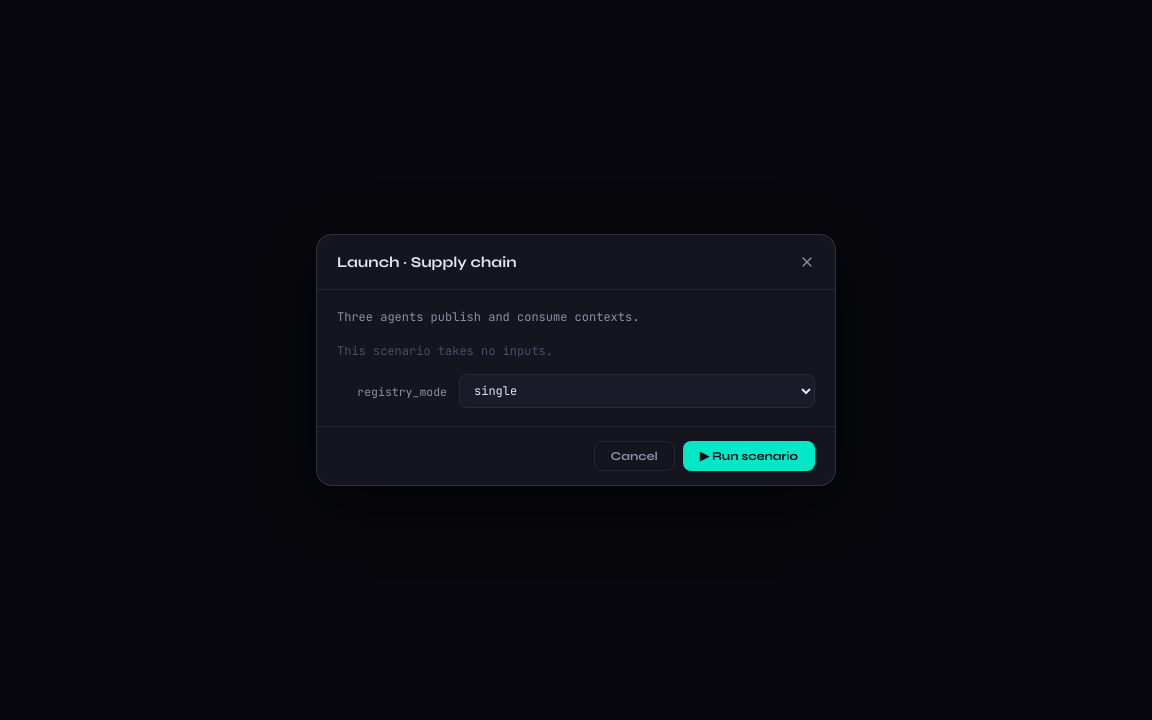
Scenario: the four rejection shapes › an UNSTAMPED 401 blames this console, not the playground
The image size is (1152, 720).
Step 1. Click the button "▶ Run scenario" → (749, 456), box [683,441,815,471]
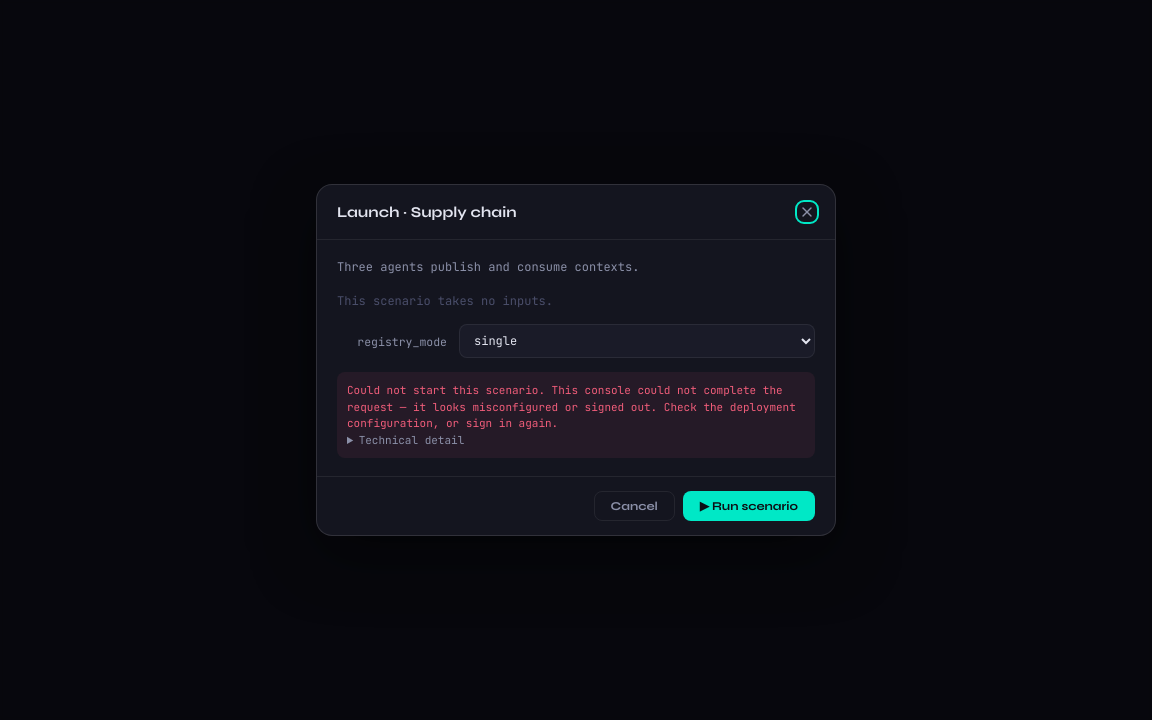
Result: the text "Could not start this scenario" is shown at [347,383,796,430]
Result: the text "This console could not complete the request" is shown at [347,383,796,430]
